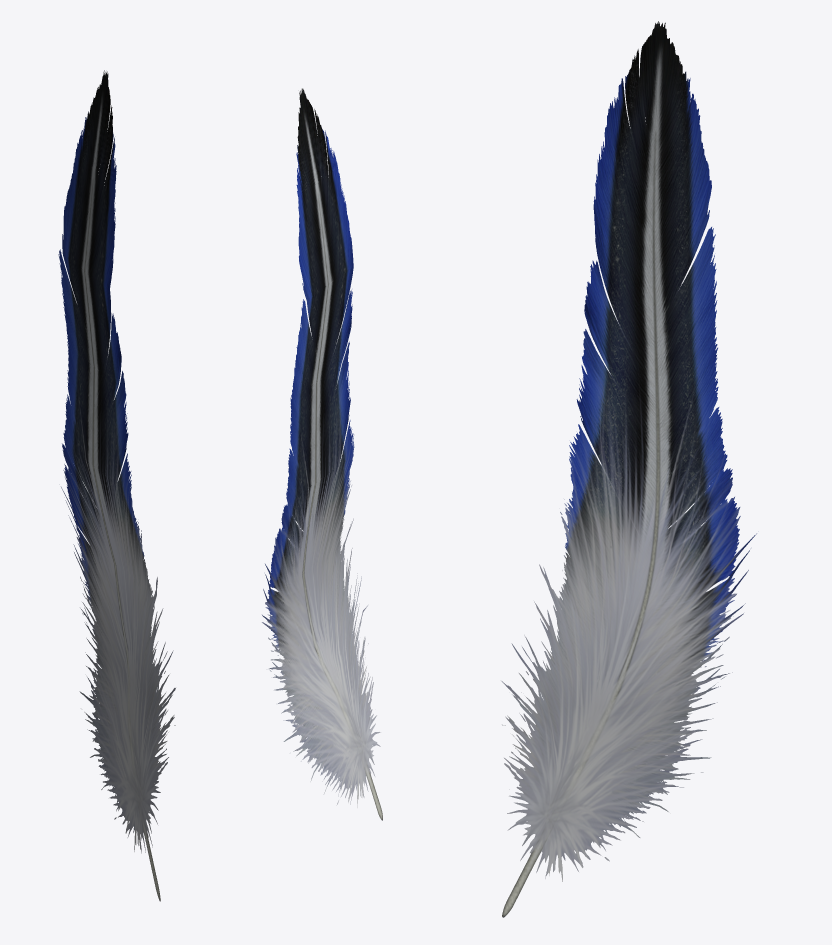
The model's file is Feather.fbx.
The picture shows the model from 3 angles, left to right: view 1: azimuth 30°, elevation 25°; view 2: azimuth 150°, elevation 25°; view 3: azimuth 270°, elevation 25°; orthographic projection. The views are drawn at different scales.
Parts seen in each view (by area): view 1: Plane; view 2: Plane; view 3: Plane.
Part boxes in pixels (x1,y1,x2,y2): Plane: [58, 70, 175, 901]; Plane: [262, 88, 382, 820]; Plane: [501, 21, 756, 917].
Bounding box in the file's own units: 7.31 × 200 × 72.73.
